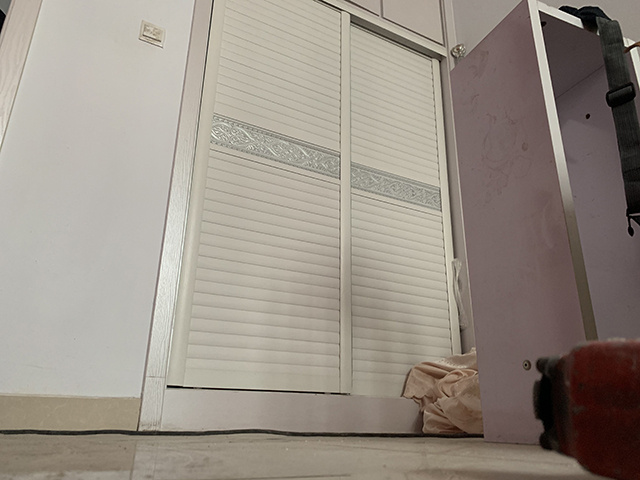cabinet: (136, 1, 484, 439)
